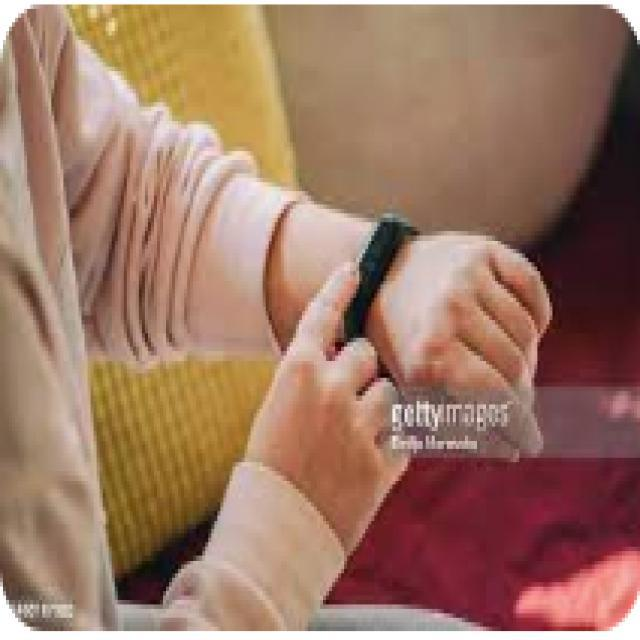Watch: (341, 210, 414, 336)
